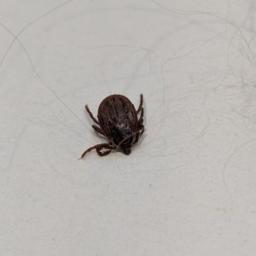Rhipicephalus sanguineus: (79, 92, 145, 161)
